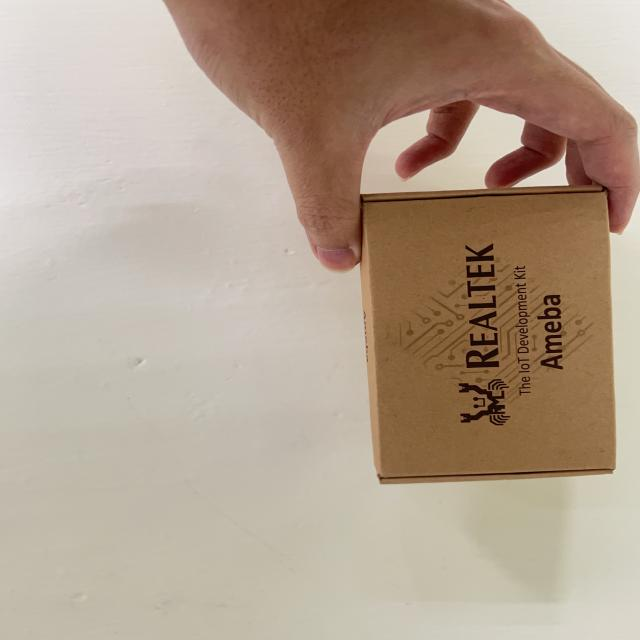box: (349, 178, 640, 501)
